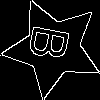B: (28, 23, 79, 65)
